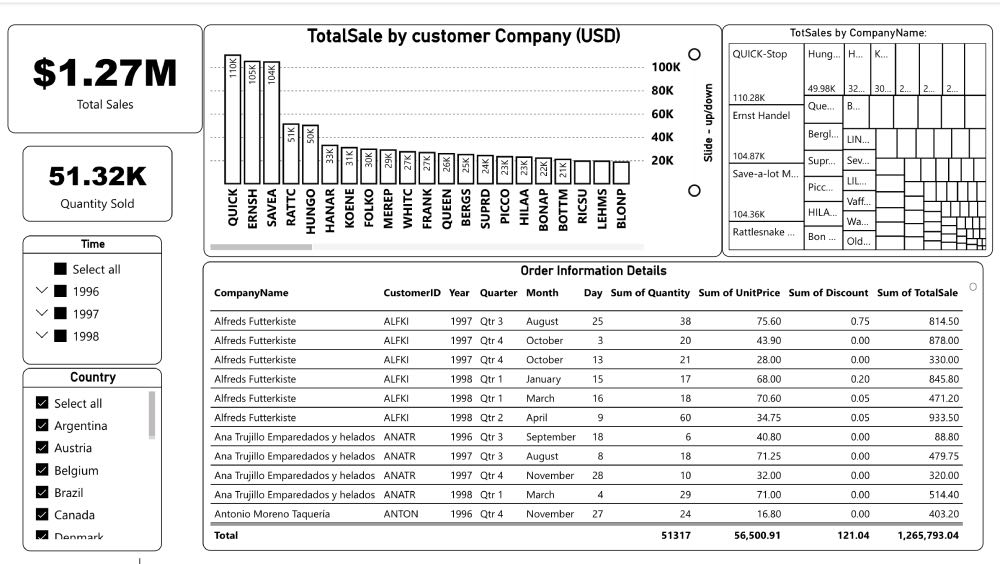

The page's visual inventory and layout, read from the dashboard file:
{"tool":"powerbi","page":{"name":"Sales Manager - Customer","canvas":[1280,720],"ordinal":1},"visuals":[{"type":"card","fields":{"Values":["Sum(FACT_OrderDetails.TotalSale)"]},"box":[0,27.8,253.6,141.6],"z":0},{"type":"card","fields":{"Values":["Sum(FACT_OrderDetails.Quantity)"]},"box":[19.4,185.7,194.4,98.6],"z":1000},{"type":"columnChart","title":"TotalSale by customer Company (USD)","fields":{"Category":["Customers_db_query.CustomerID"],"Y":["Sum(FACT_OrderDetails.TotalSale)"]},"box":[254.2,27.8,673.6,301.9],"z":2000},{"type":"slicer","title":"Time","fields":{"Values":["FACT_OrderDetails.OrderDate.Variation.Date Hierarchy.Year","FACT_OrderDetails.OrderDate.Variation.Date Hierarchy.Quarter","FACT_OrderDetails.OrderDate.Variation.Date Hierarchy.Month","FACT_OrderDetails.OrderDate.Variation.Date Hierarchy.Day"]},"box":[19.8,301.9,181.2,167.6],"z":3000},{"type":"slicer","title":"Country","fields":{"Values":["Customers_db_query.Country"]},"box":[19.8,473.8,181.2,238.1],"z":4000},{"type":"tableEx","title":"Order Information Details","fields":{"Values":["Customers_db_query.CompanyName","Customers_db_query.CustomerID","FACT_OrderDetails.OrderDate.Variation.Date Hierarchy.Year","FACT_OrderDetails.OrderDate.Variation.Date Hierarchy.Quarter","FACT_OrderDetails.OrderDate.Variation.Date Hierarchy.Month","FACT_OrderDetails.OrderDate.Variation.Date Hierarchy.Day","Sum(FACT_OrderDetails.Quantity)","Sum(FACT_OrderDetails.UnitPrice)","Sum(FACT_OrderDetails.Discount)","Sum(FACT_OrderDetails.TotalSale)"]},"box":[253.6,336.5,1013.8,375.5],"z":5000},{"type":"treemap","title":"TotSales by CompanyName:","fields":{"Group":["Customers_db_query.CompanyName"],"Values":["FACT_OrderDetails.TotSales"]},"box":[927.8,27.8,352,301.9],"z":6000}]}

Visuals, with their boxes in screenshot pixels (x1, y1, x2, y2), scaled from the page's 1280x720 canvas onto the 1000x564 screenshot:
card - Sum(FACT_OrderDetails.TotalSale): (0,22,198,133)
card - Sum(FACT_OrderDetails.Quantity): (15,145,167,223)
"TotalSale by customer Company (USD)" columnChart: (199,22,725,258)
"Time" slicer: (15,236,157,368)
"Country" slicer: (15,371,157,558)
"Order Information Details" tableEx: (198,264,990,558)
"TotSales by CompanyName:" treemap: (725,22,999,258)
